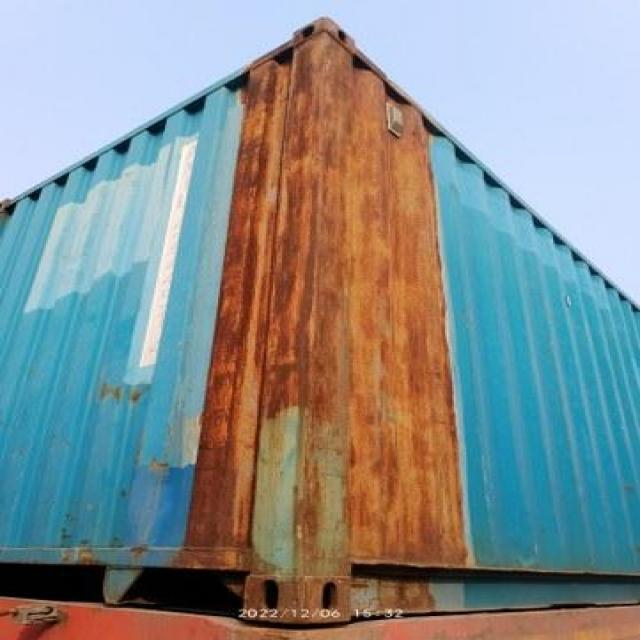Rust: (181, 19, 472, 564)
